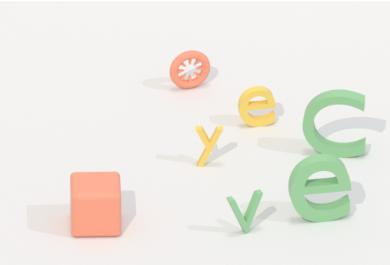0-KhoiVuong: (64, 164, 128, 245)
0-TronLo: (163, 45, 212, 93)
C: (300, 85, 371, 161)
V: (222, 184, 269, 239)
e: (283, 152, 354, 226), (232, 82, 280, 131)
y: (188, 120, 231, 170)
